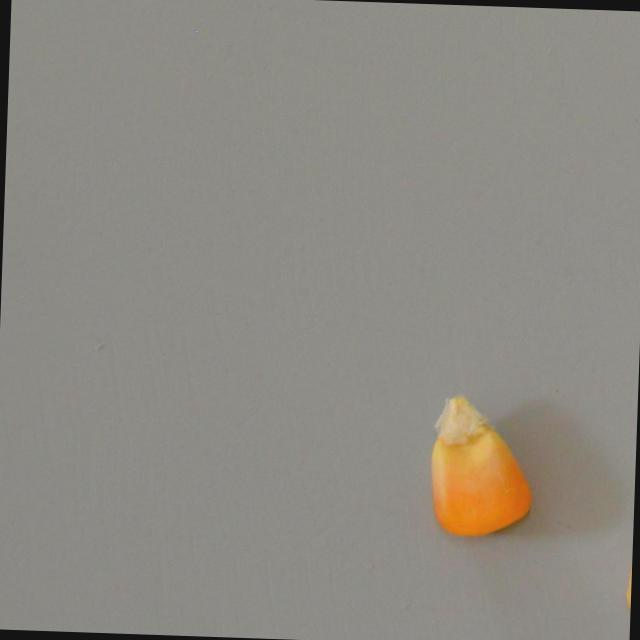entero: (423, 391, 537, 538), (618, 527, 633, 626)
